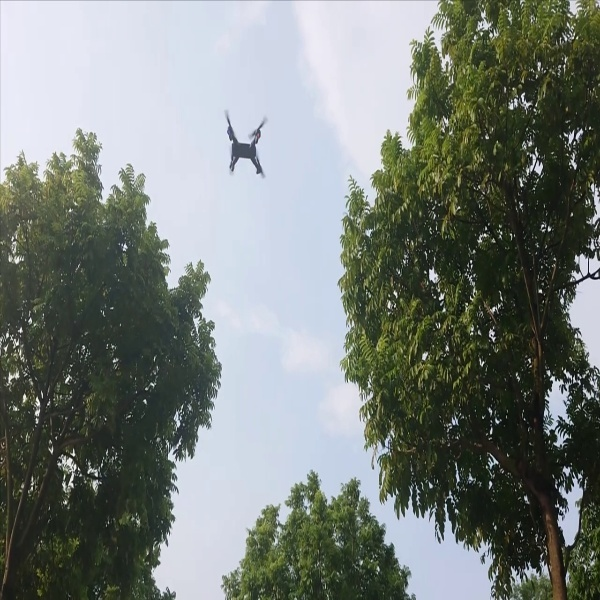drone: (219, 104, 277, 187)
